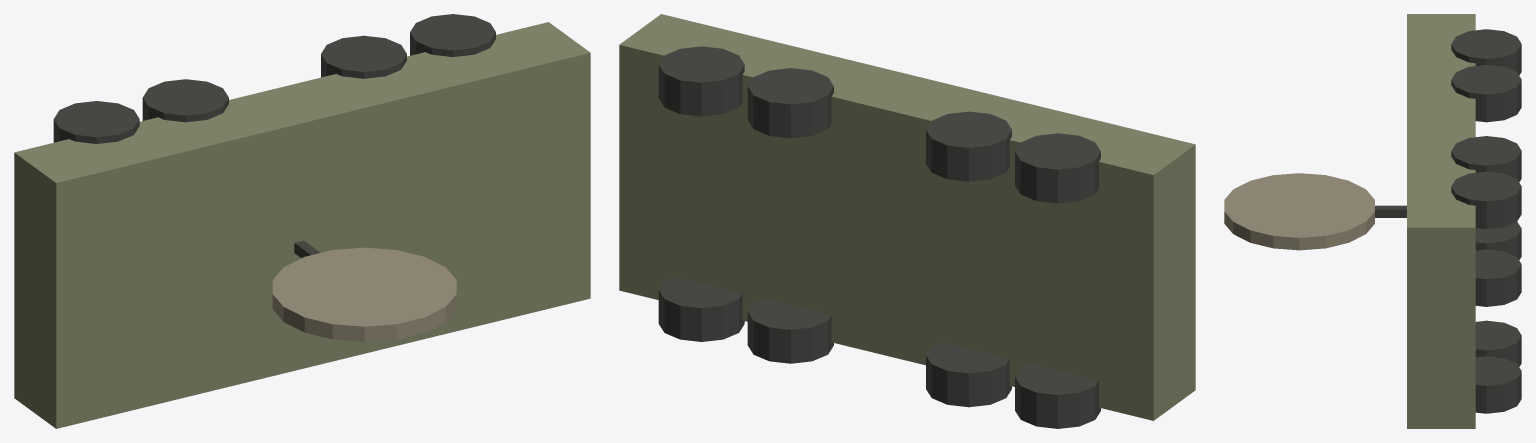
File: radar_cb.glb
The picture shows the model from 3 angles, left to right: view 1: azimuth 30°, elevation 25°; view 2: azimuth 150°, elevation 25°; view 3: azimuth 270°, elevation 25°; orthographic projection. The views are drawn at different scales.
Parts seen in each view (by area): view 1: geometry_0; view 2: geometry_0; view 3: geometry_0.
Part boxes in pixels (x1,y1,x2,y2): geometry_0: (14, 14, 590, 428); geometry_0: (619, 14, 1195, 428); geometry_0: (1224, 14, 1521, 428).
Size of the model in its own units: 6.6 by 3.06 by 3.88.
